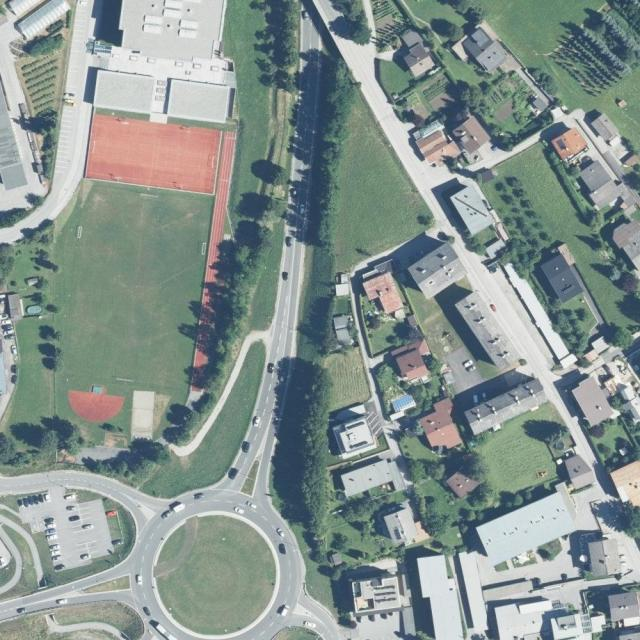building: (475, 490, 578, 568), (483, 578, 606, 640), (454, 289, 523, 373), (463, 377, 550, 439), (590, 353, 640, 429), (407, 241, 469, 300), (452, 22, 512, 82), (415, 397, 468, 456), (166, 78, 231, 123), (92, 69, 155, 115), (410, 117, 462, 172), (457, 550, 490, 635), (391, 337, 441, 390), (574, 159, 623, 212), (449, 183, 496, 237), (569, 374, 616, 428), (392, 27, 439, 79), (449, 114, 497, 164), (495, 600, 555, 640), (16, 0, 72, 42), (539, 252, 584, 304), (330, 414, 378, 460), (361, 270, 405, 320), (339, 458, 394, 498), (350, 575, 402, 617), (582, 104, 626, 149), (382, 504, 424, 550), (0, 84, 21, 167), (550, 126, 591, 164), (587, 538, 622, 578), (562, 451, 597, 491), (445, 465, 480, 501), (425, 422, 463, 455), (482, 579, 534, 603), (578, 159, 613, 194), (609, 591, 640, 627), (7, 0, 43, 17), (390, 392, 416, 413), (7, 293, 24, 322)
greenland: (34, 176, 215, 433), (268, 52, 358, 560), (160, 184, 278, 454), (270, 86, 437, 274), (448, 49, 554, 158), (469, 401, 581, 503), (295, 485, 411, 580), (481, 0, 605, 65), (456, 458, 556, 527), (83, 429, 177, 501), (10, 317, 65, 427), (536, 274, 606, 360), (0, 411, 87, 478), (406, 454, 462, 549), (0, 225, 61, 296), (248, 219, 286, 332), (357, 298, 425, 356), (585, 409, 640, 474), (305, 560, 355, 630), (366, 54, 416, 102), (519, 409, 573, 453), (437, 50, 484, 90), (247, 155, 292, 191), (455, 448, 494, 485), (527, 60, 561, 98)
metalled_road: (445, 217, 629, 468), (329, 14, 476, 242), (166, 323, 277, 463), (15, 475, 117, 578), (288, 11, 325, 217), (280, 585, 359, 640), (43, 613, 133, 640), (0, 15, 20, 104), (310, 0, 342, 28), (4, 87, 23, 130)
